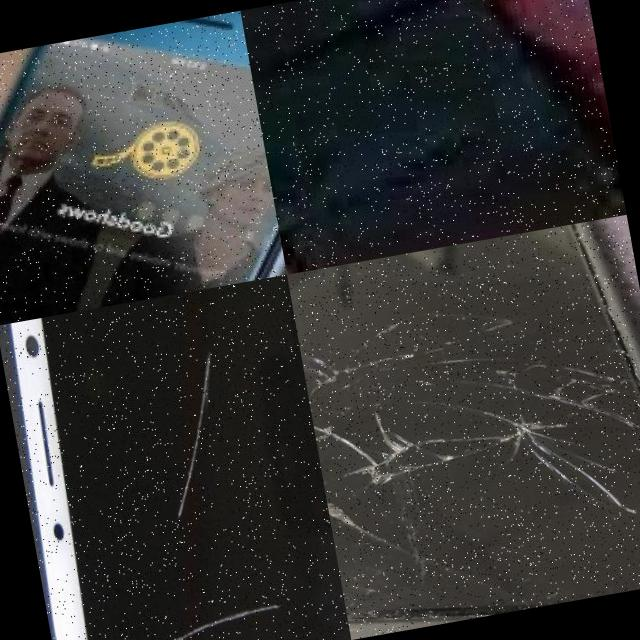scratch: (157, 352, 242, 534), (158, 604, 291, 640)
screen crack: (291, 239, 640, 639)
